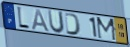1: (89, 17, 98, 38)
A: (31, 8, 51, 33)
D: (64, 12, 82, 37)
L: (16, 6, 31, 31)
M: (95, 16, 118, 43)
U: (47, 9, 66, 35)
